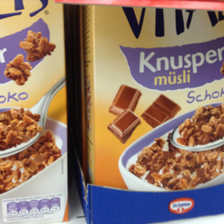cereal: (83, 5, 224, 196)
